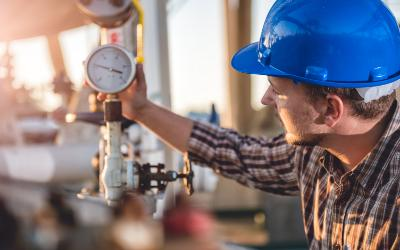helmet: (231, 1, 400, 91)
